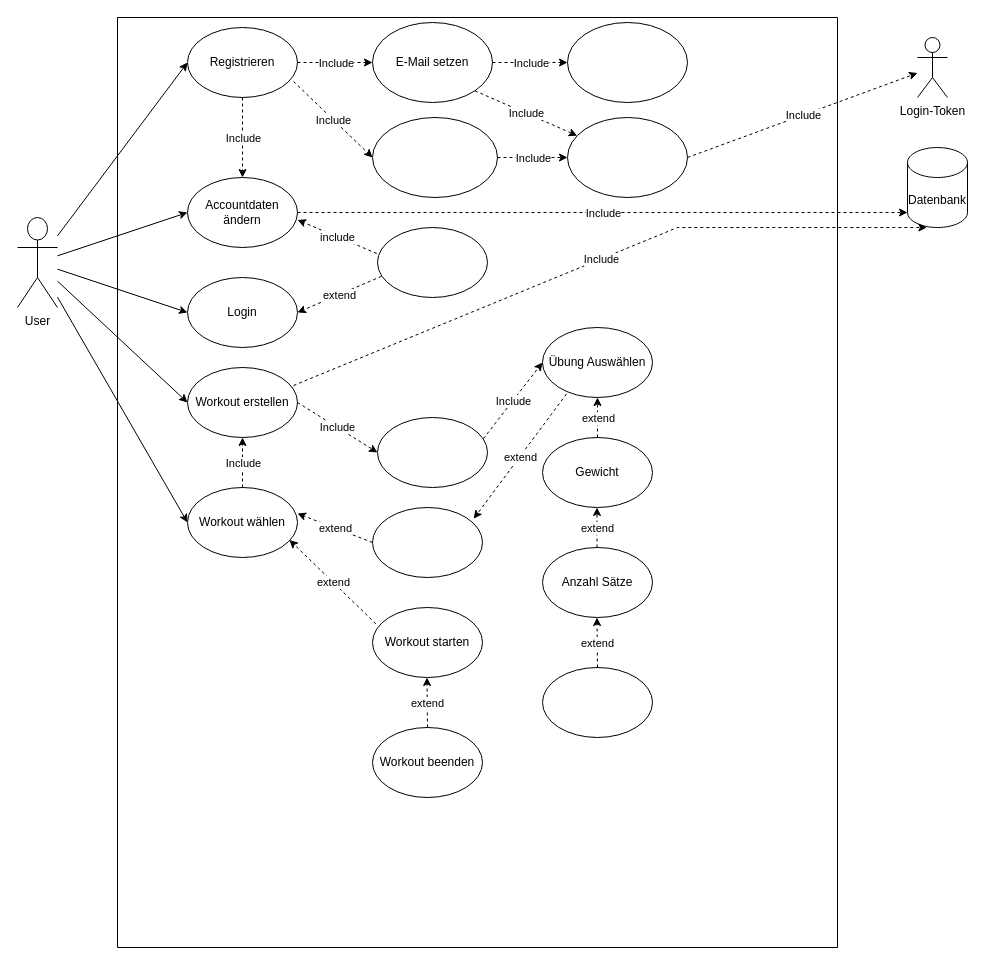
Some shapes in this 985 by 965 pixel diagram are drawn without their labels. Each missing label, with the box of its shape:
Anzahl Wiederholungen: (542, 666, 652, 738)
E-Mail / Passwort vergessen: (376, 226, 488, 298)
Einstellungen: (372, 506, 482, 578)
Login-Token erzeugen: (566, 116, 688, 198)
Passwort setzen: (372, 116, 498, 198)
Prüfe E-Mail: (566, 22, 688, 102)
Split wählen: (376, 416, 488, 488)
